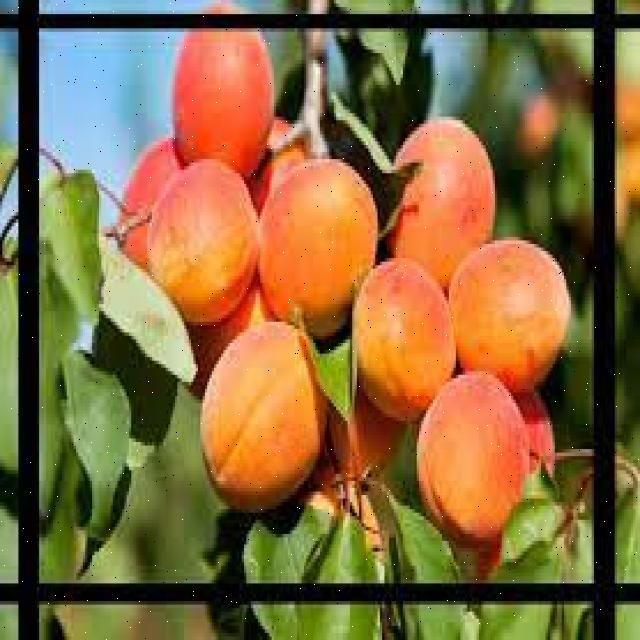kayisi: (124, 147, 264, 348), (198, 299, 335, 504), (411, 367, 542, 557), (384, 117, 500, 303), (258, 167, 380, 331), (444, 254, 576, 404)
